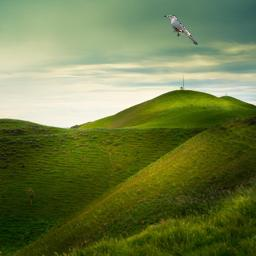Cuckoo: (164, 15, 198, 45)
